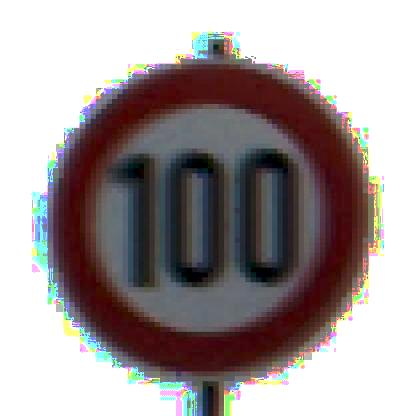Speed Limit -100-: (44, 55, 371, 382)
